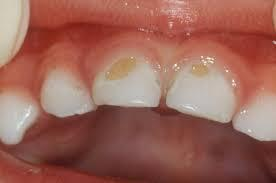cavity: (158, 54, 244, 125), (89, 48, 164, 114), (35, 55, 98, 120), (0, 79, 41, 150)
normal: (230, 76, 276, 148)
